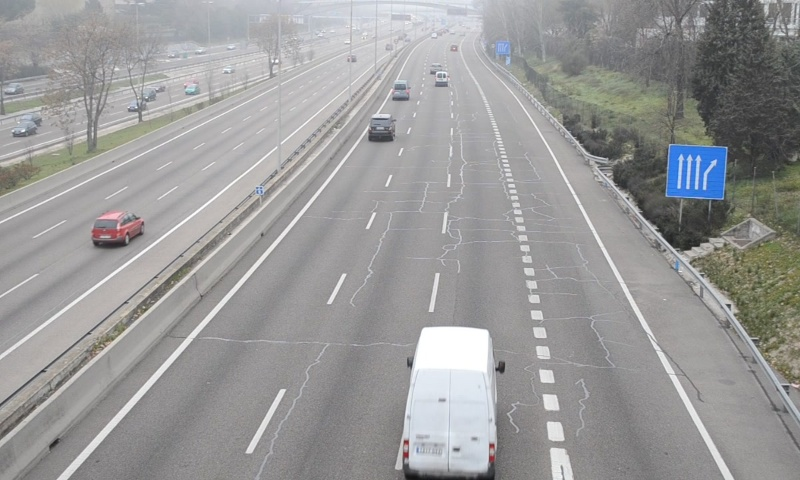car: (368, 114, 396, 139)
van: (402, 326, 498, 478), (391, 78, 410, 98)
